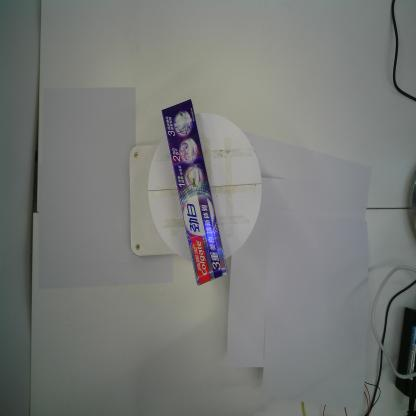Personal Hygiene: (160, 98, 229, 287)
